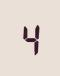four: (19, 19, 38, 56)
